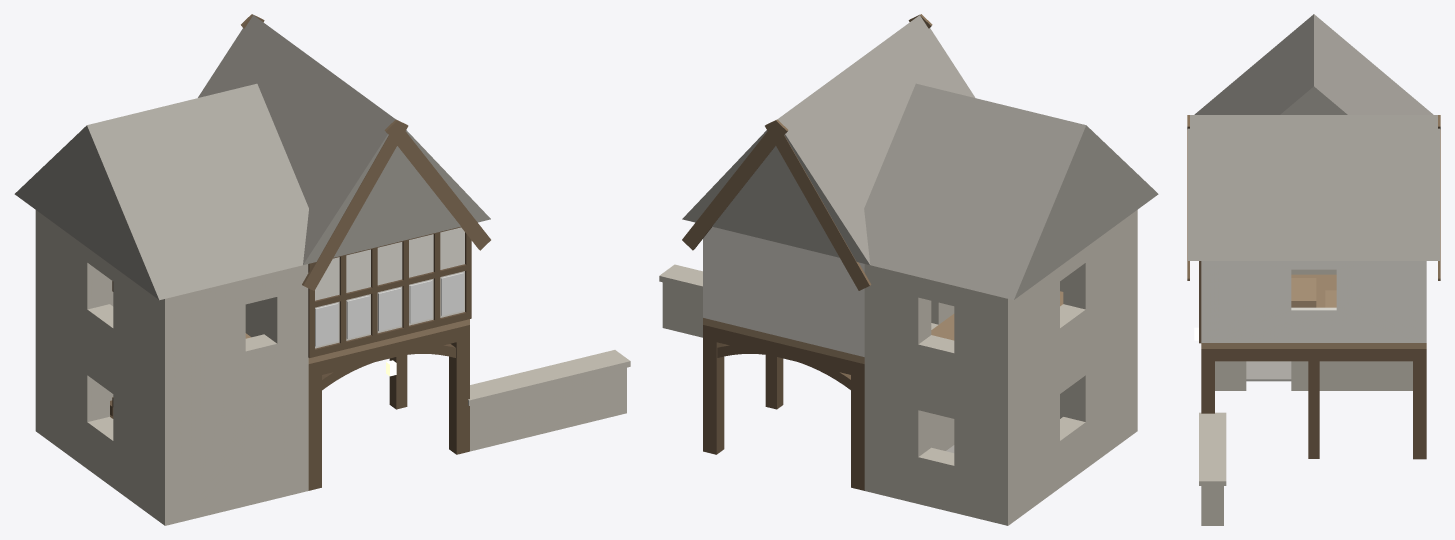
The model's file is house-with-lane-1275.glb.
3 renders of one model, left to right at view 1: azimuth 30°, elevation 25°; view 2: azimuth 150°, elevation 25°; view 3: azimuth 270°, elevation 25°, orthographic. The views are drawn at different scales.
Parts seen in each view (by area): view 1: bargeboard-back-left; view 2: bargeboard-back-left; view 3: bargeboard-back-left.
Boxes of the visible parts, x1,y1,x2,y2 form: bargeboard-back-left: (14, 14, 630, 525); bargeboard-back-left: (659, 14, 1158, 525); bargeboard-back-left: (1187, 14, 1440, 525).
Size of the model in its own units: 10.65 by 7.6 by 5.62.
